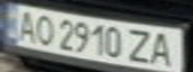0: (103, 24, 127, 60)
1: (87, 21, 106, 56)
2: (54, 16, 75, 52)
9: (69, 19, 90, 54)
A: (148, 29, 184, 69), (9, 7, 42, 42)
O: (30, 12, 57, 46)
Z: (124, 27, 154, 65)
